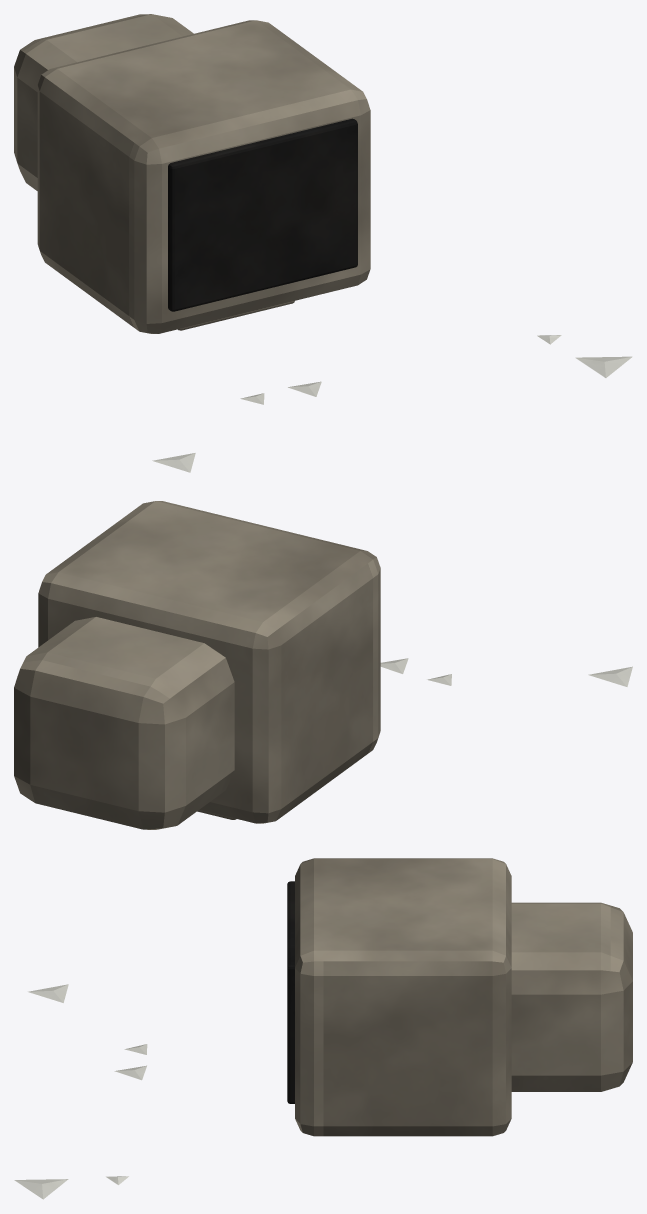
File: BR06_smashed_monitor.glb
3 views of the same model, one above another, from view 1: azimuth 30°, elevation 25°; view 2: azimuth 150°, elevation 25°; view 3: azimuth 270°, elevation 25° (orthographic). The views are drawn at different scales.
Parts seen in each view (by area): view 1: BR06_smashed_monitor; view 2: BR06_smashed_monitor; view 3: BR06_smashed_monitor.
Boxes of the visible parts, x1=… form: BR06_smashed_monitor: x1=14, y1=14, x2=632, y2=472; BR06_smashed_monitor: x1=14, y1=501, x2=632, y2=829; BR06_smashed_monitor: x1=14, y1=858, x2=632, y2=1199.
Size of the model in its own units: 0.4117 by 0.1804 by 0.5.
Materials: 3 (3 with a texture image).
